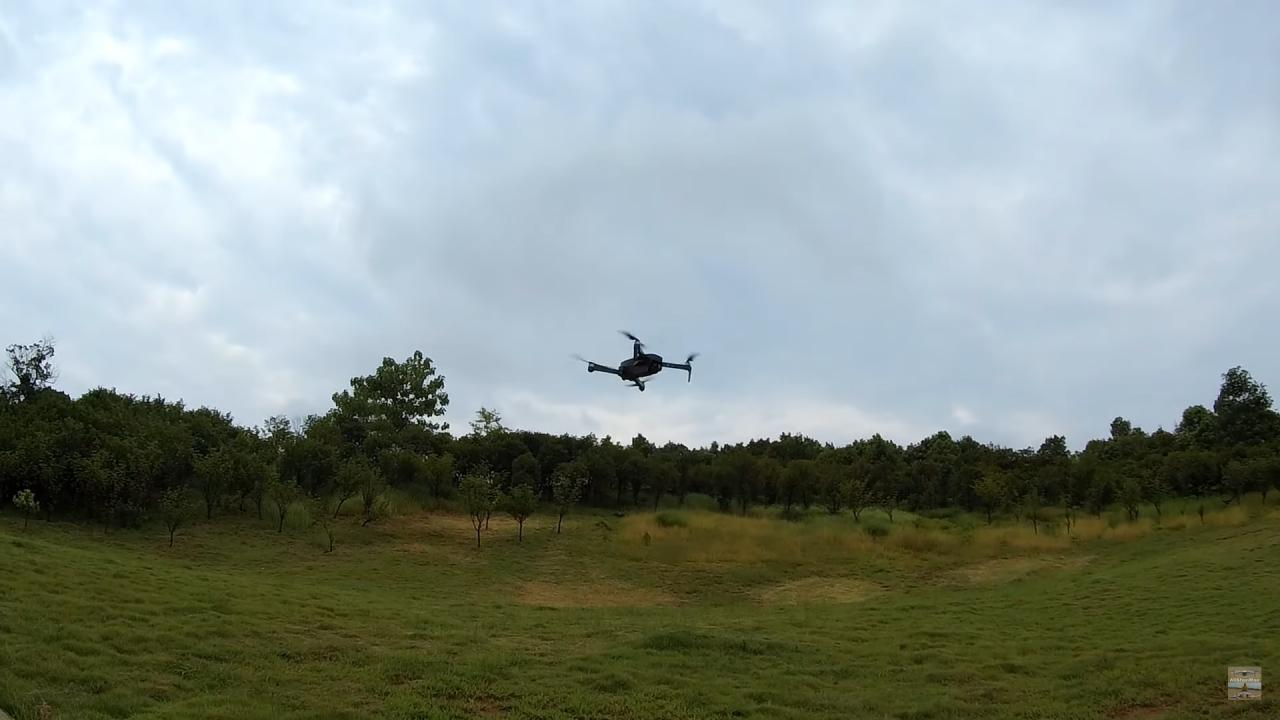Drone: (556, 321, 715, 404)
